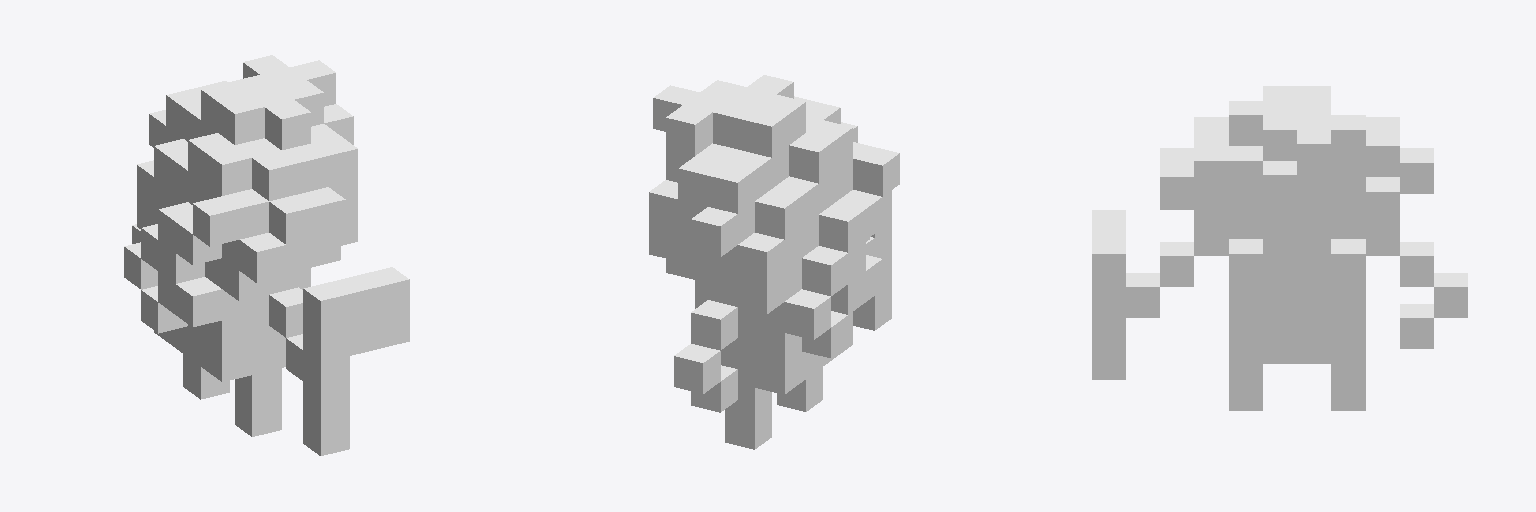
Rendered from Settler.obj.
3 renders of one model, left to right at view 1: azimuth 30°, elevation 25°; view 2: azimuth 150°, elevation 25°; view 3: azimuth 270°, elevation 25°, orthographic.
Visible parts, largest first — view 1: object 1; view 2: object 1; view 3: object 1.
Part boxes in pixels (left/top/right/bottom): object 1: left=124, top=55, right=409, bottom=455; object 1: left=649, top=75, right=899, bottom=449; object 1: left=1092, top=86, right=1467, bottom=410.
Size of the model in its own units: 0.6 by 1 by 1.1.